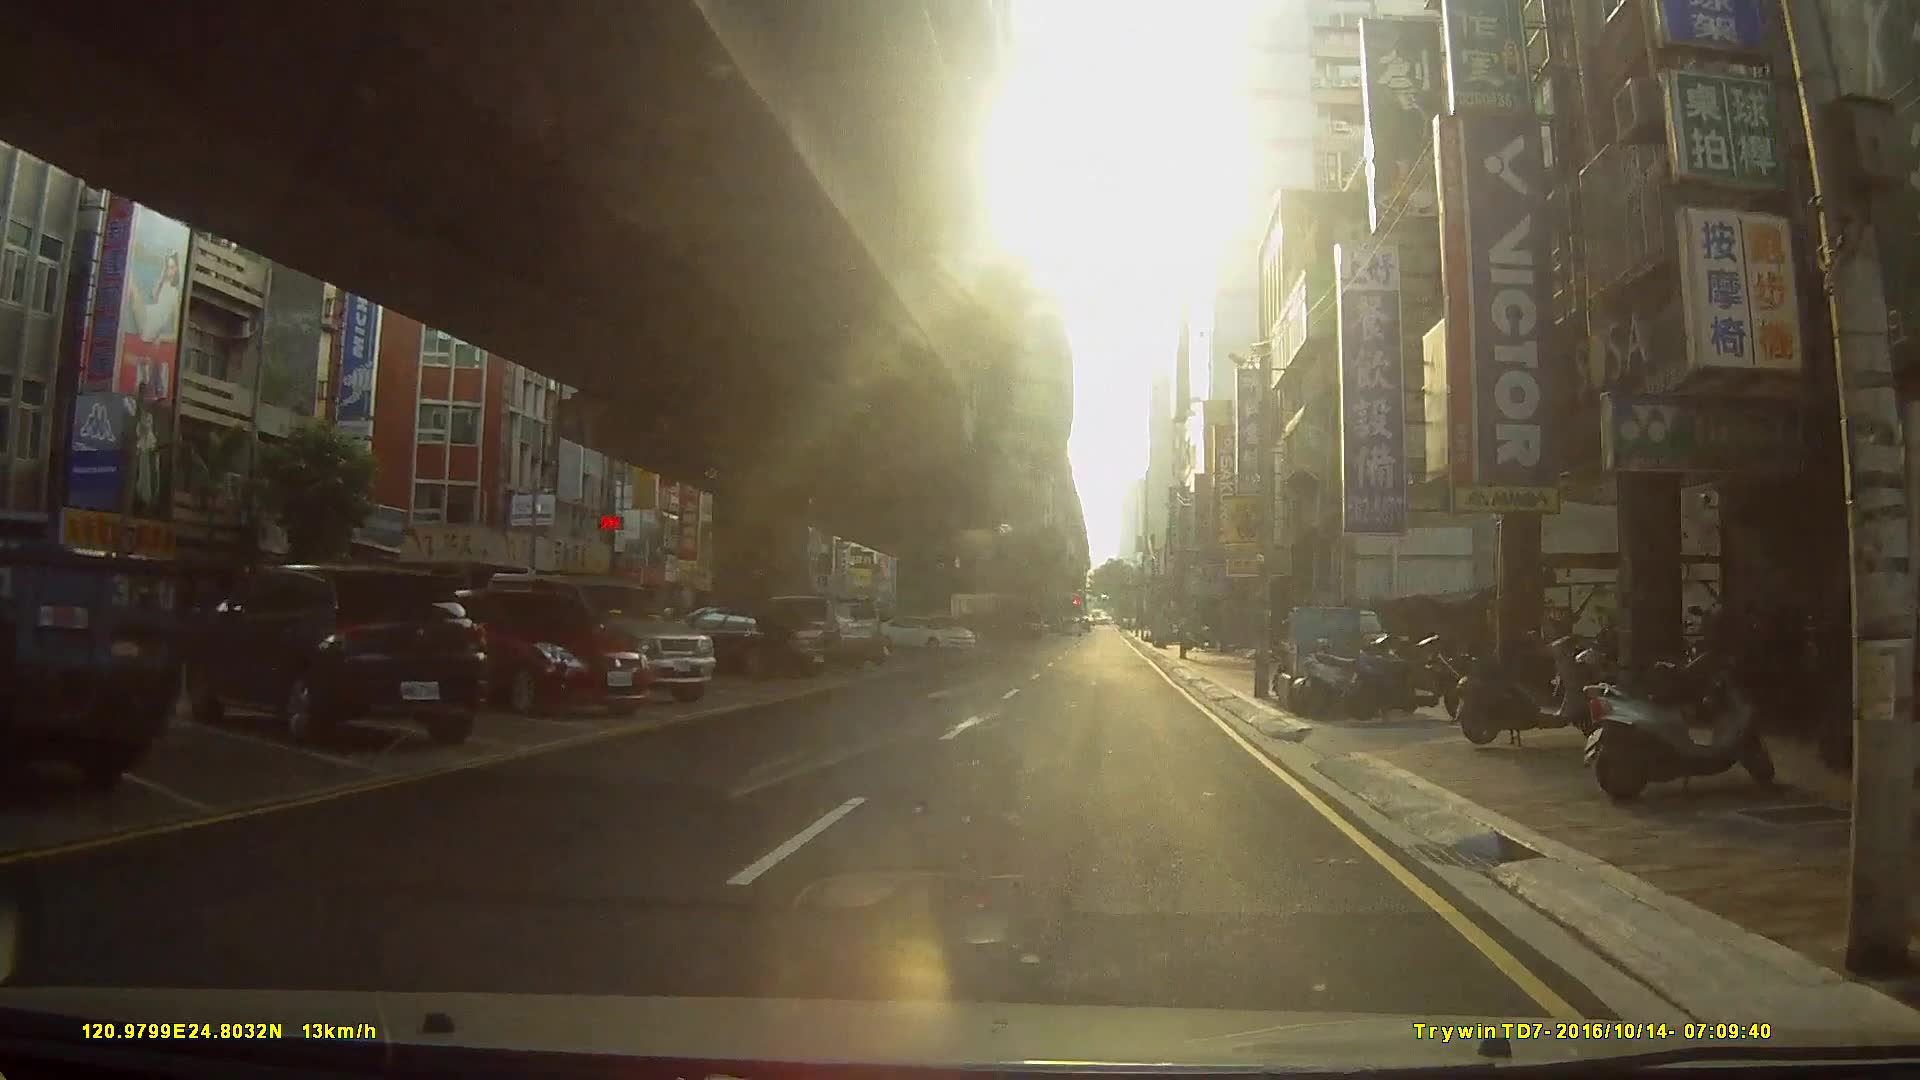vehicle: (0, 506, 187, 796), (187, 563, 483, 745), (480, 568, 717, 708), (431, 583, 651, 717), (654, 604, 832, 678), (733, 592, 884, 670), (877, 613, 977, 654)
